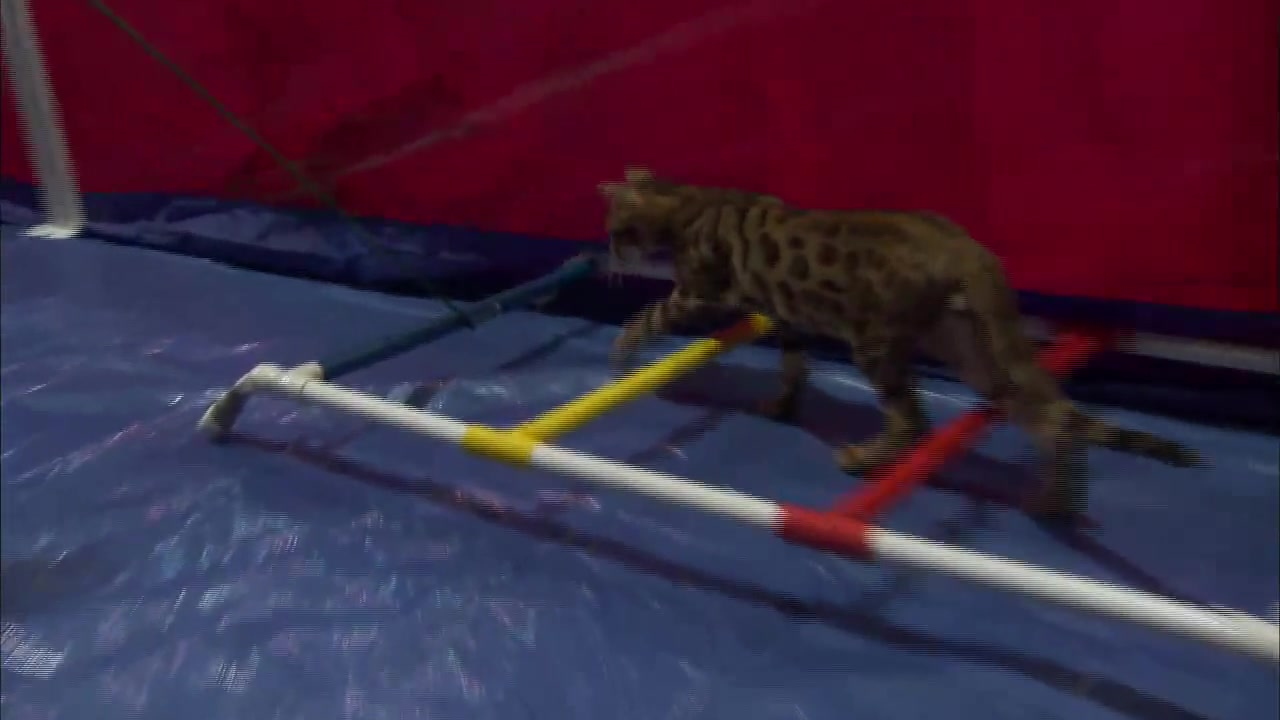cat: (592, 166, 1208, 528)
